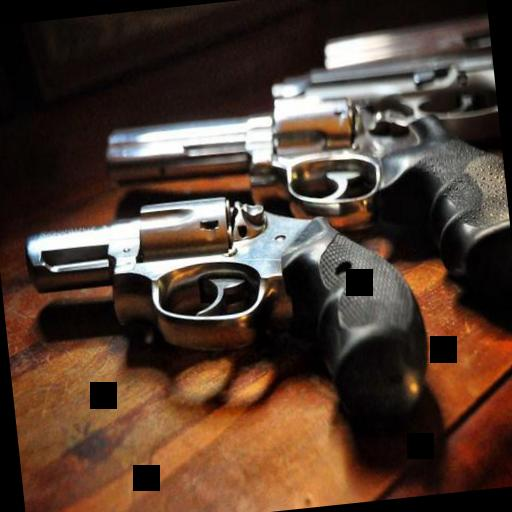Handgun: (83, 20, 512, 321), (15, 170, 431, 442)
